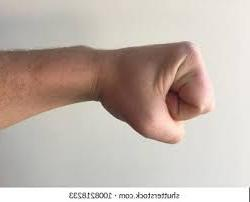Left-Fist: (77, 37, 217, 146)
